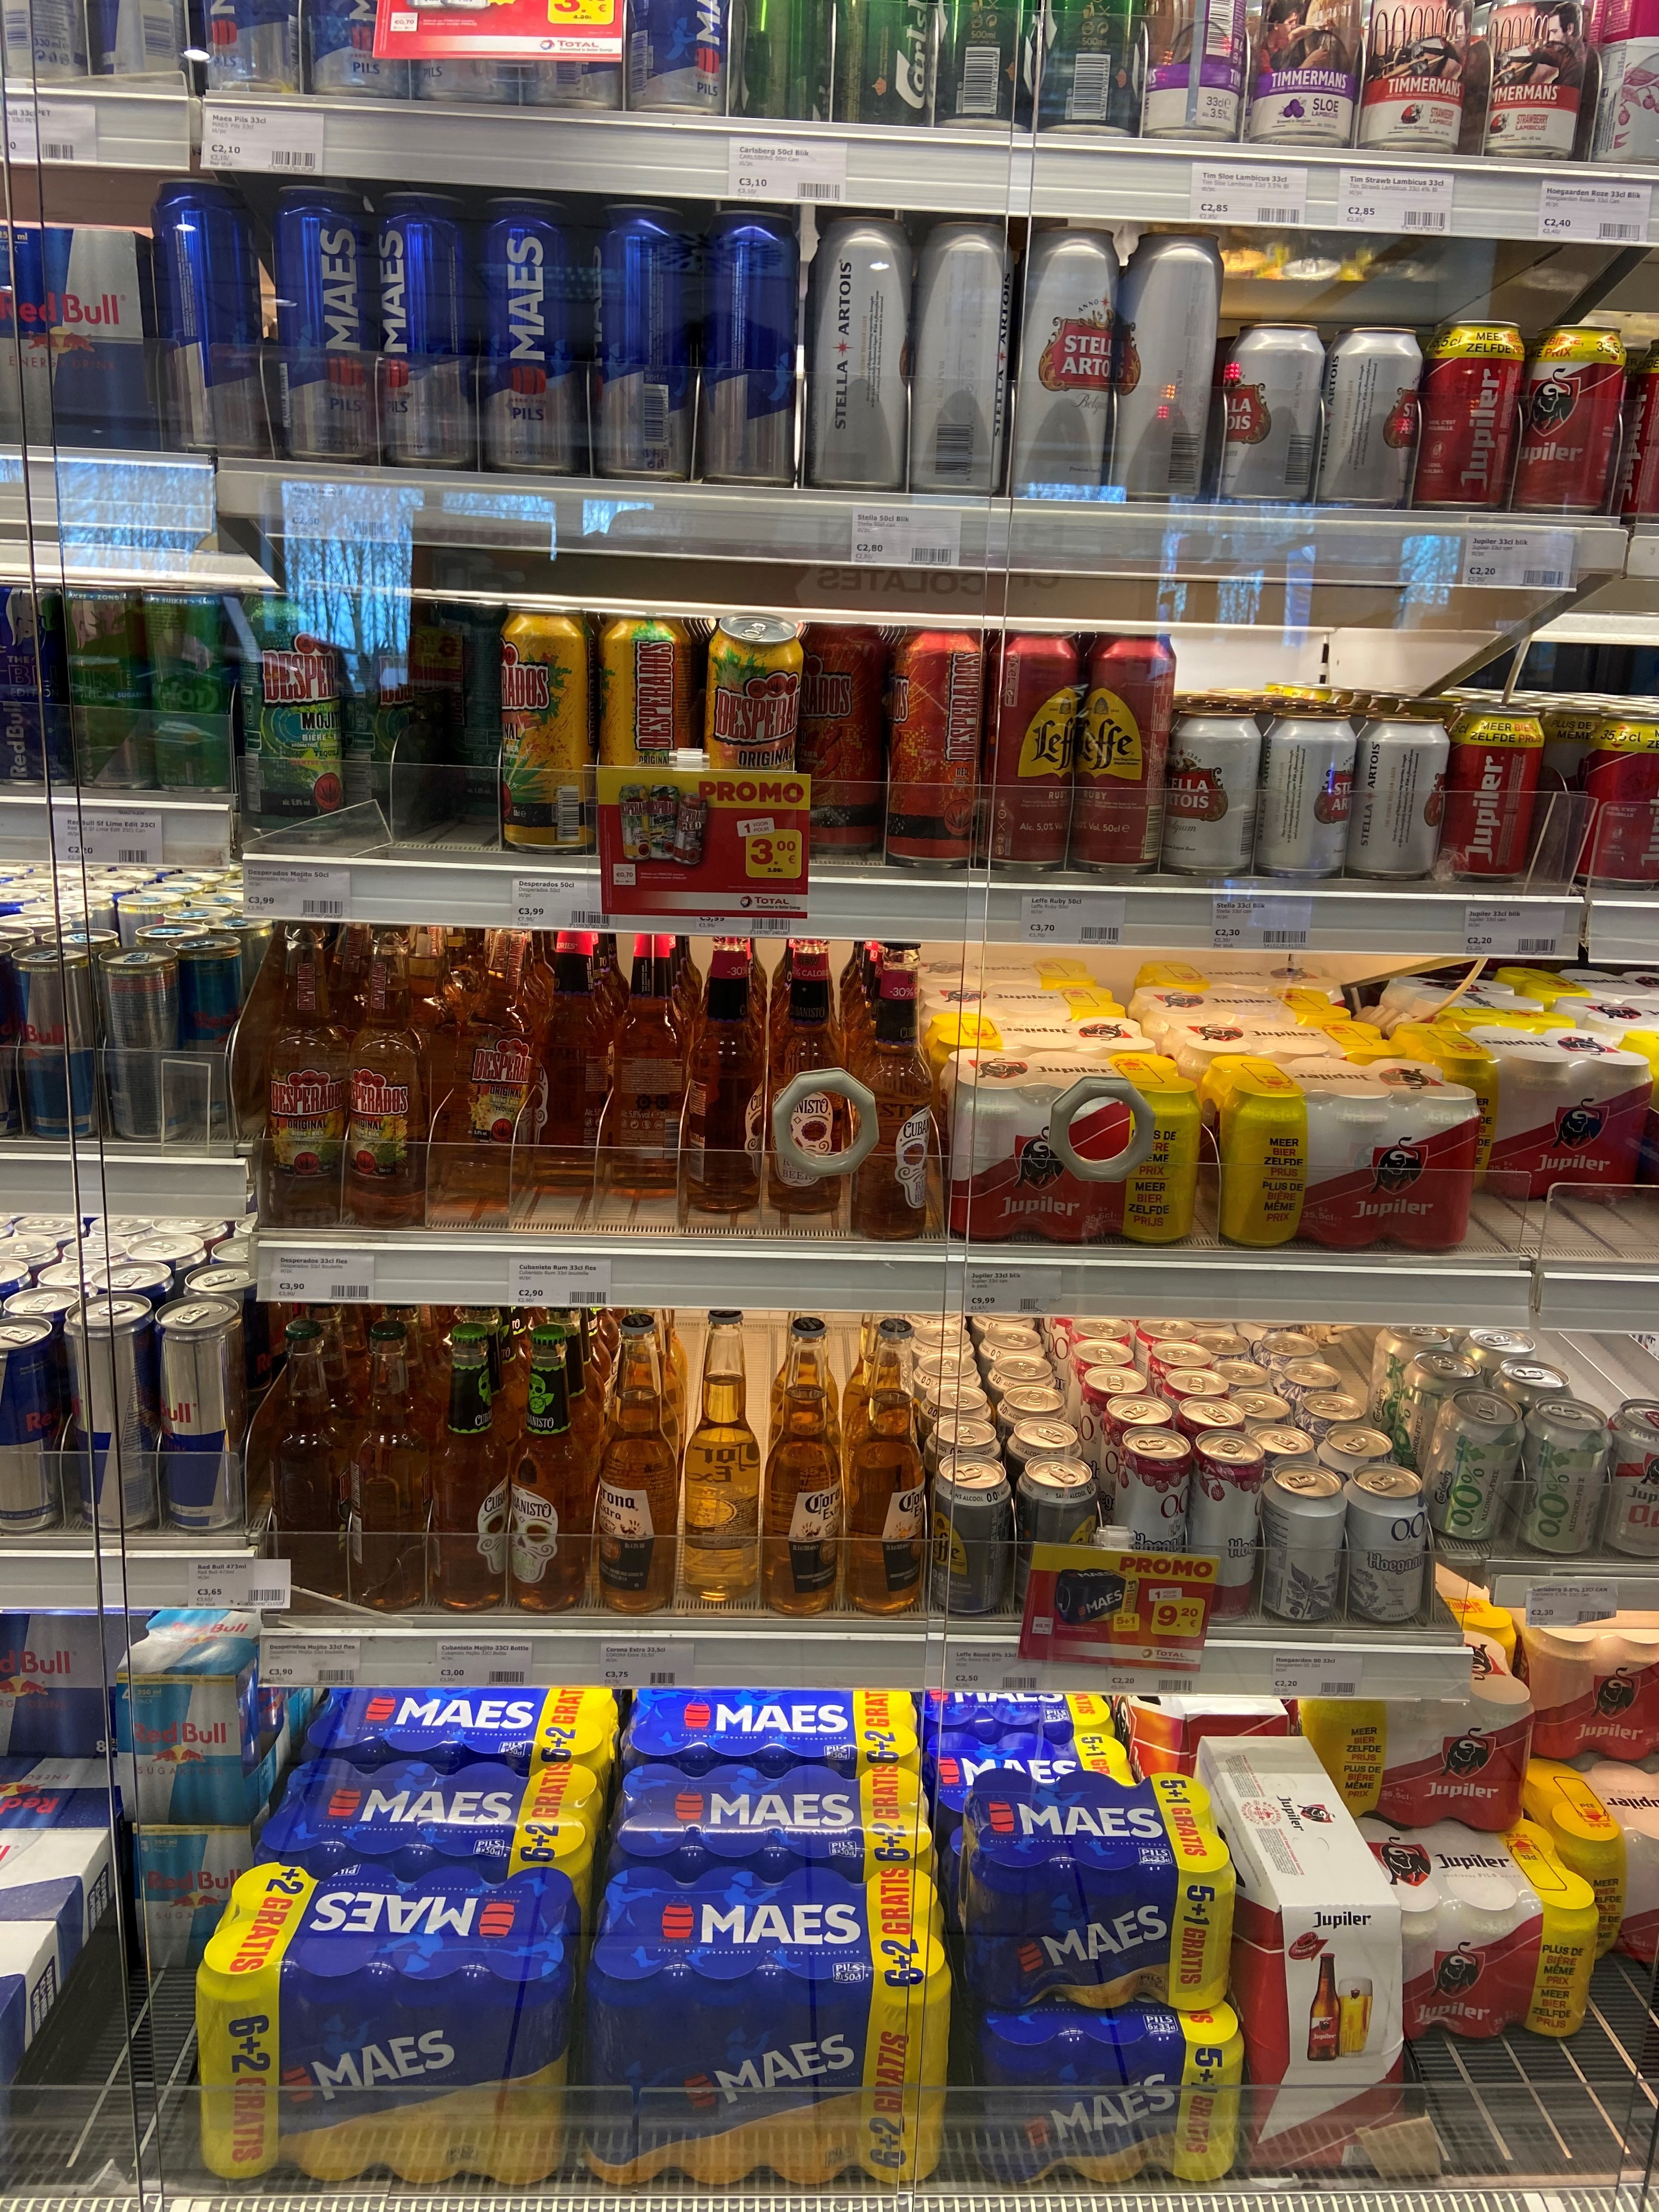Carlsberg0,0%: (1422, 1386, 1528, 1543), (1521, 1397, 1608, 1554)
Corona: (680, 1308, 767, 1602), (594, 1313, 674, 1616), (763, 1317, 843, 1615), (845, 1318, 925, 1615)
Cubanisto-30%Calories: (850, 932, 936, 1244), (760, 920, 845, 1217), (528, 911, 615, 1188), (685, 920, 765, 1214), (612, 914, 688, 1197)
CubanistoMojito: (509, 1320, 591, 1613), (429, 1325, 505, 1611)
DesperadosBlikMojito: (235, 587, 343, 841)
DesperadosBlikOriginal: (598, 608, 699, 859), (706, 611, 807, 860), (497, 608, 592, 859)
DesperadosBlikRed: (890, 622, 992, 867), (798, 613, 884, 855)
DesperadosFles: (443, 900, 542, 1193), (345, 900, 427, 1230), (267, 894, 347, 1228), (345, 1317, 430, 1611), (265, 1318, 343, 1613)
Hoegaerden0,0%: (1262, 1461, 1349, 1630), (1344, 1461, 1427, 1629)
HoegaerdenRose: (1117, 1430, 1192, 1618), (1194, 1430, 1263, 1620)
Jupiler0,0%Blik33cl: (1605, 1397, 1659, 1561)
JupilerBlik35,5cl: (1513, 324, 1628, 519), (1417, 320, 1525, 509), (1448, 709, 1546, 880), (1581, 714, 1659, 883)
JupilerBlik6x35,5cl: (1342, 1818, 1601, 2038), (1195, 1055, 1476, 1254), (938, 1047, 1197, 1247), (1300, 1632, 1535, 1834), (1405, 1019, 1652, 1202), (1527, 1756, 1659, 1958), (1516, 1606, 1659, 1761)
JupilerFles8x33cl: (1213, 1730, 1408, 2168)
Leffe0,0%Blond: (1014, 1451, 1098, 1616), (932, 1453, 1012, 1615)
LeffeRuby50cl: (1072, 629, 1178, 874), (988, 622, 1077, 873)
Maes50cl: (150, 178, 265, 463), (267, 185, 380, 474), (375, 192, 481, 481), (481, 200, 586, 486), (587, 204, 692, 482), (697, 211, 800, 491)
Maes6x33cl: (958, 1770, 1236, 2022), (962, 1975, 1246, 2184)
Maes8x50cl: (195, 1865, 582, 2184), (594, 1865, 953, 2186)
RedBullBlue: (0, 583, 71, 786)
RedBullLime: (59, 583, 148, 803)
RedBullOriginalBlik355ml: (63, 1292, 155, 1533), (155, 1294, 244, 1536), (0, 1315, 61, 1533)
RedBullOriginalBlik4x250ml: (0, 221, 176, 462)
RedBullSugarFree335ml: (145, 587, 232, 805), (10, 942, 96, 1141), (96, 946, 183, 1139), (164, 935, 242, 1116)
RedBullSugarFree4x250ml: (119, 1606, 282, 1829), (131, 1794, 270, 1972)
StellaBlik33cl: (1218, 324, 1326, 509), (1314, 329, 1424, 510), (1347, 714, 1452, 883), (1161, 709, 1262, 878), (1256, 714, 1356, 880)
StellaBlik50cl: (1011, 225, 1122, 510), (803, 218, 915, 495), (1112, 232, 1225, 503), (910, 221, 1018, 500)
TimmermansSloe: (1251, 0, 1359, 153), (1140, 0, 1248, 139)
TimmermansStrawberry: (1480, 0, 1591, 164), (1358, 0, 1469, 152)
